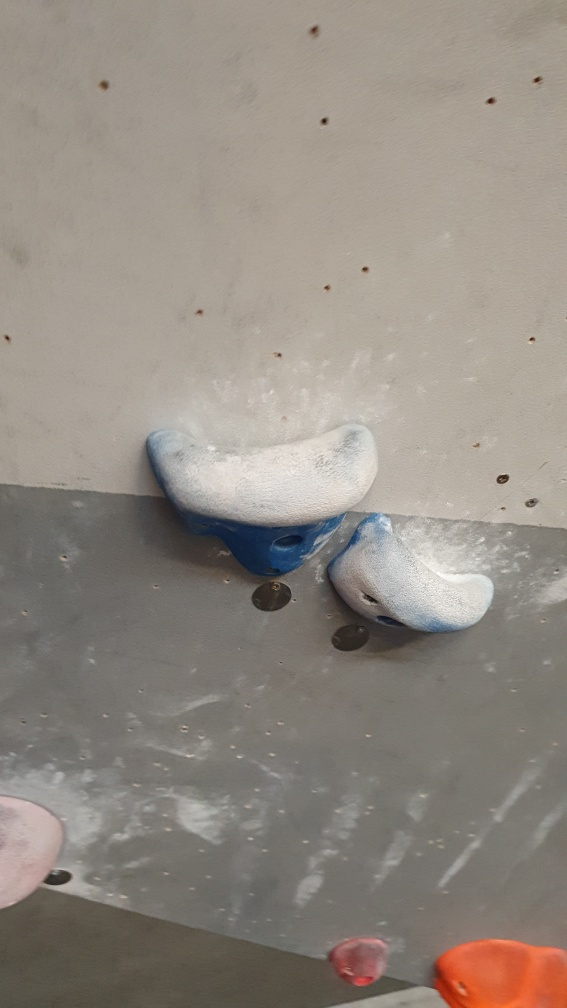Hand Start: (327, 613, 372, 656), (249, 577, 295, 617), (43, 861, 74, 895)
Jug: (142, 425, 381, 580), (327, 512, 498, 645)
